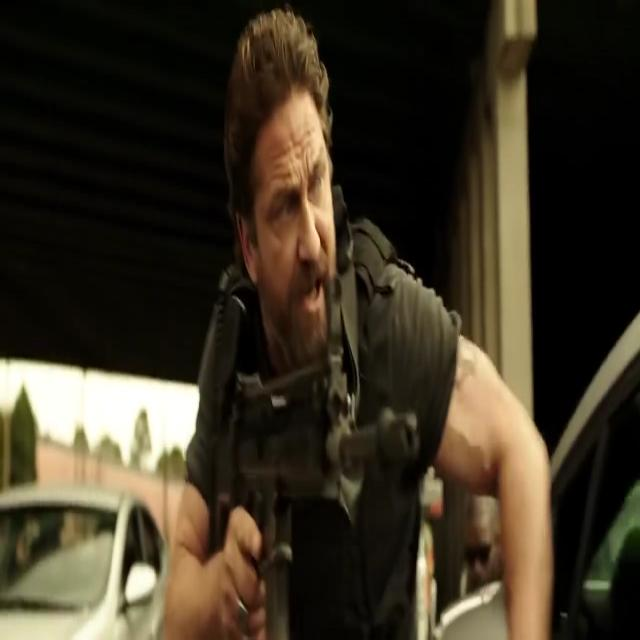Weapon: (193, 326, 434, 632)
